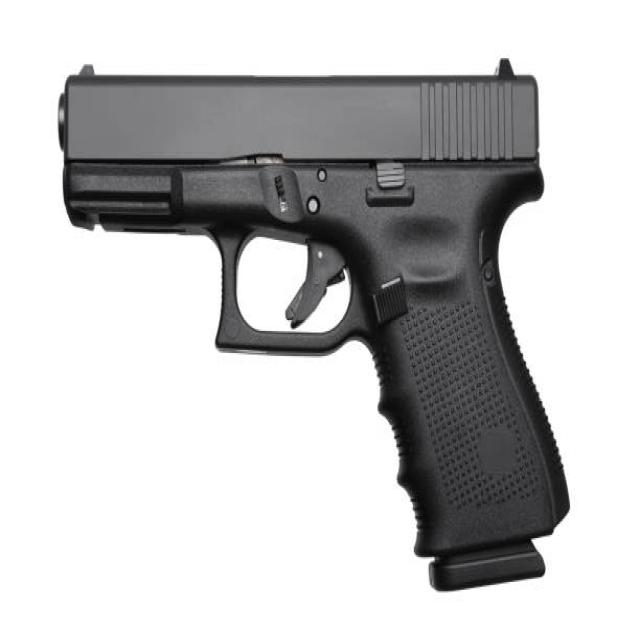pistol: (50, 58, 583, 605)
